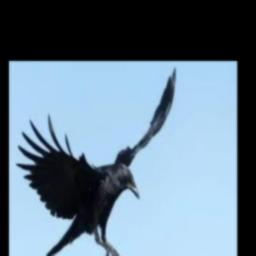Crow: (16, 67, 177, 256)
